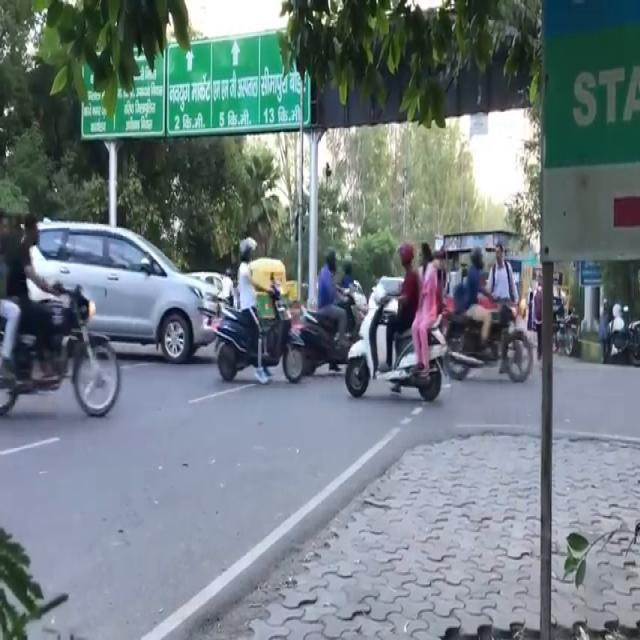MOTORCYCLE: (0, 292, 115, 428), (342, 287, 442, 395), (214, 295, 306, 382)
SUV: (31, 220, 216, 367)
